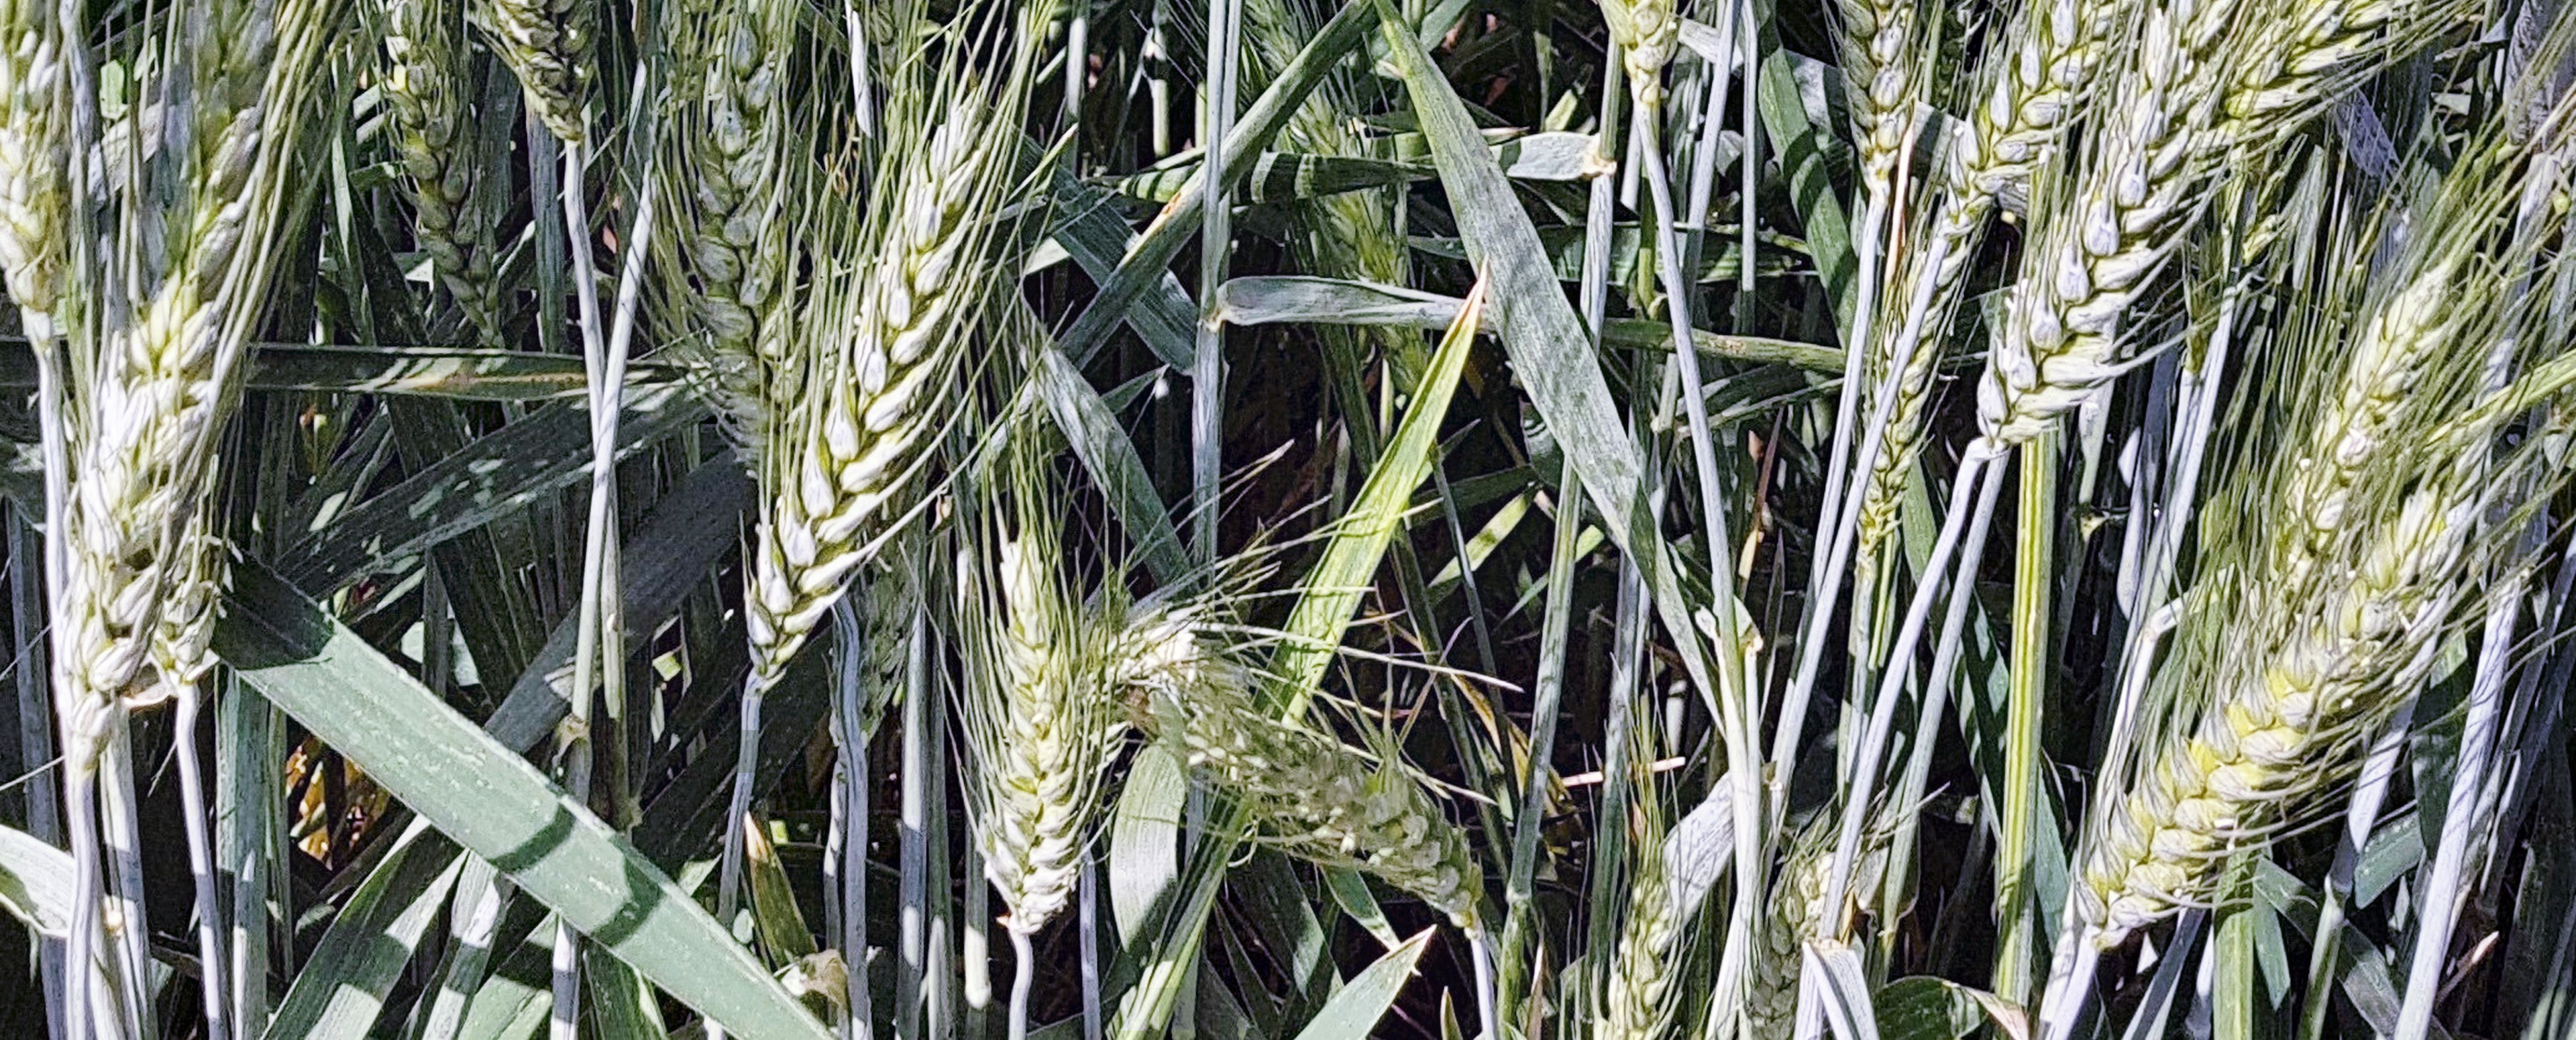Healthy Wheat: (723, 79, 1114, 646), (2058, 503, 2517, 946)
